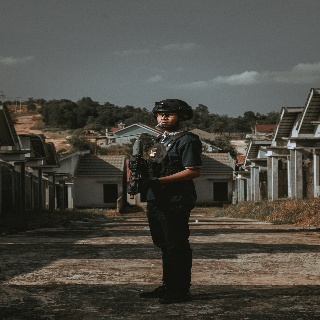rifle: (124, 138, 147, 201)
